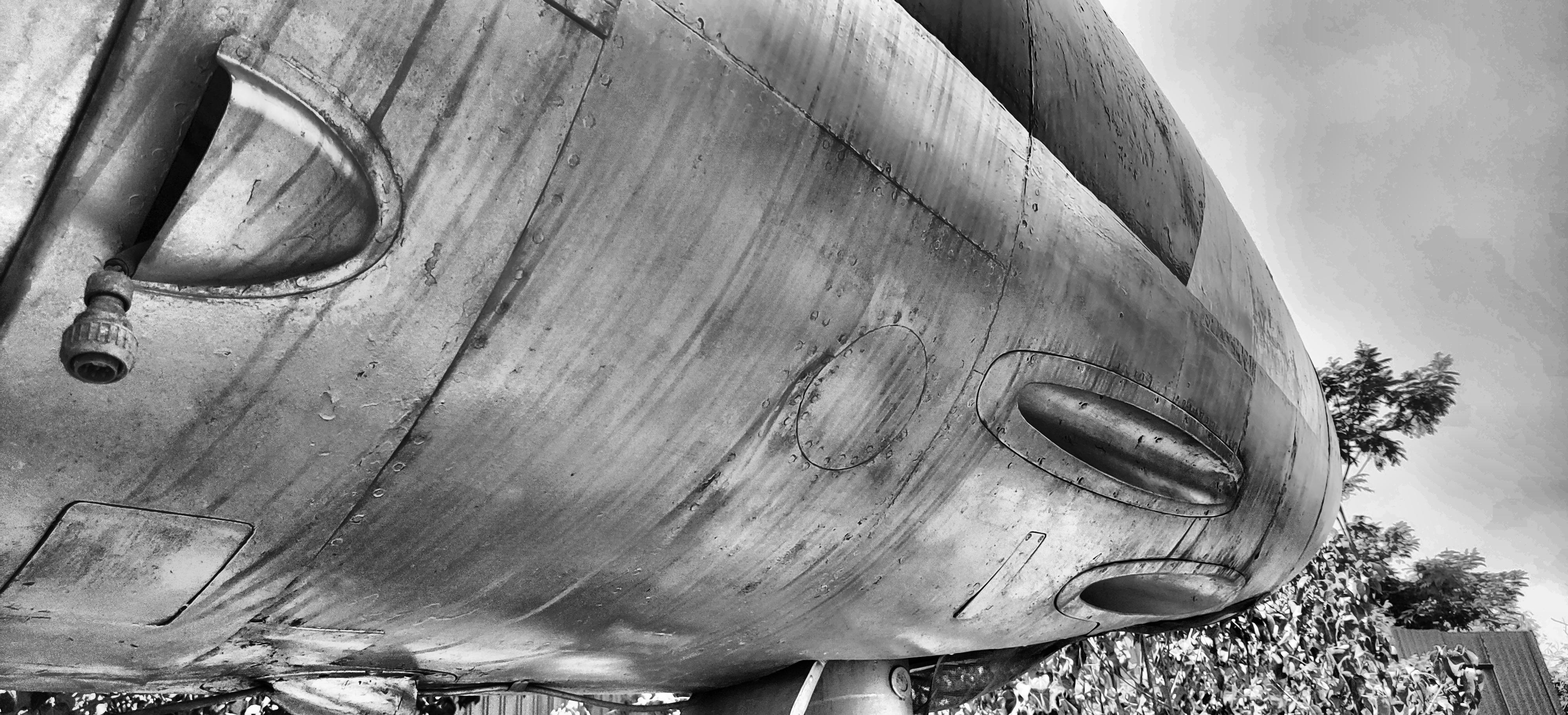dent: (273, 677, 384, 714), (674, 485, 724, 541), (614, 615, 686, 645), (895, 634, 936, 657)
missing-head: (1039, 457, 1047, 465), (1029, 355, 1036, 362), (1078, 477, 1084, 484), (1155, 397, 1161, 404), (1206, 511, 1209, 516)
paint-peel-off: (425, 244, 442, 286), (247, 179, 261, 205)
